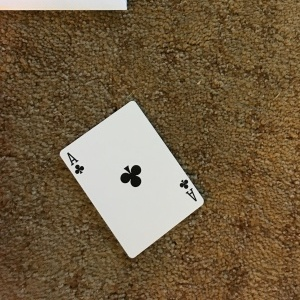card: (56, 99, 206, 260)
